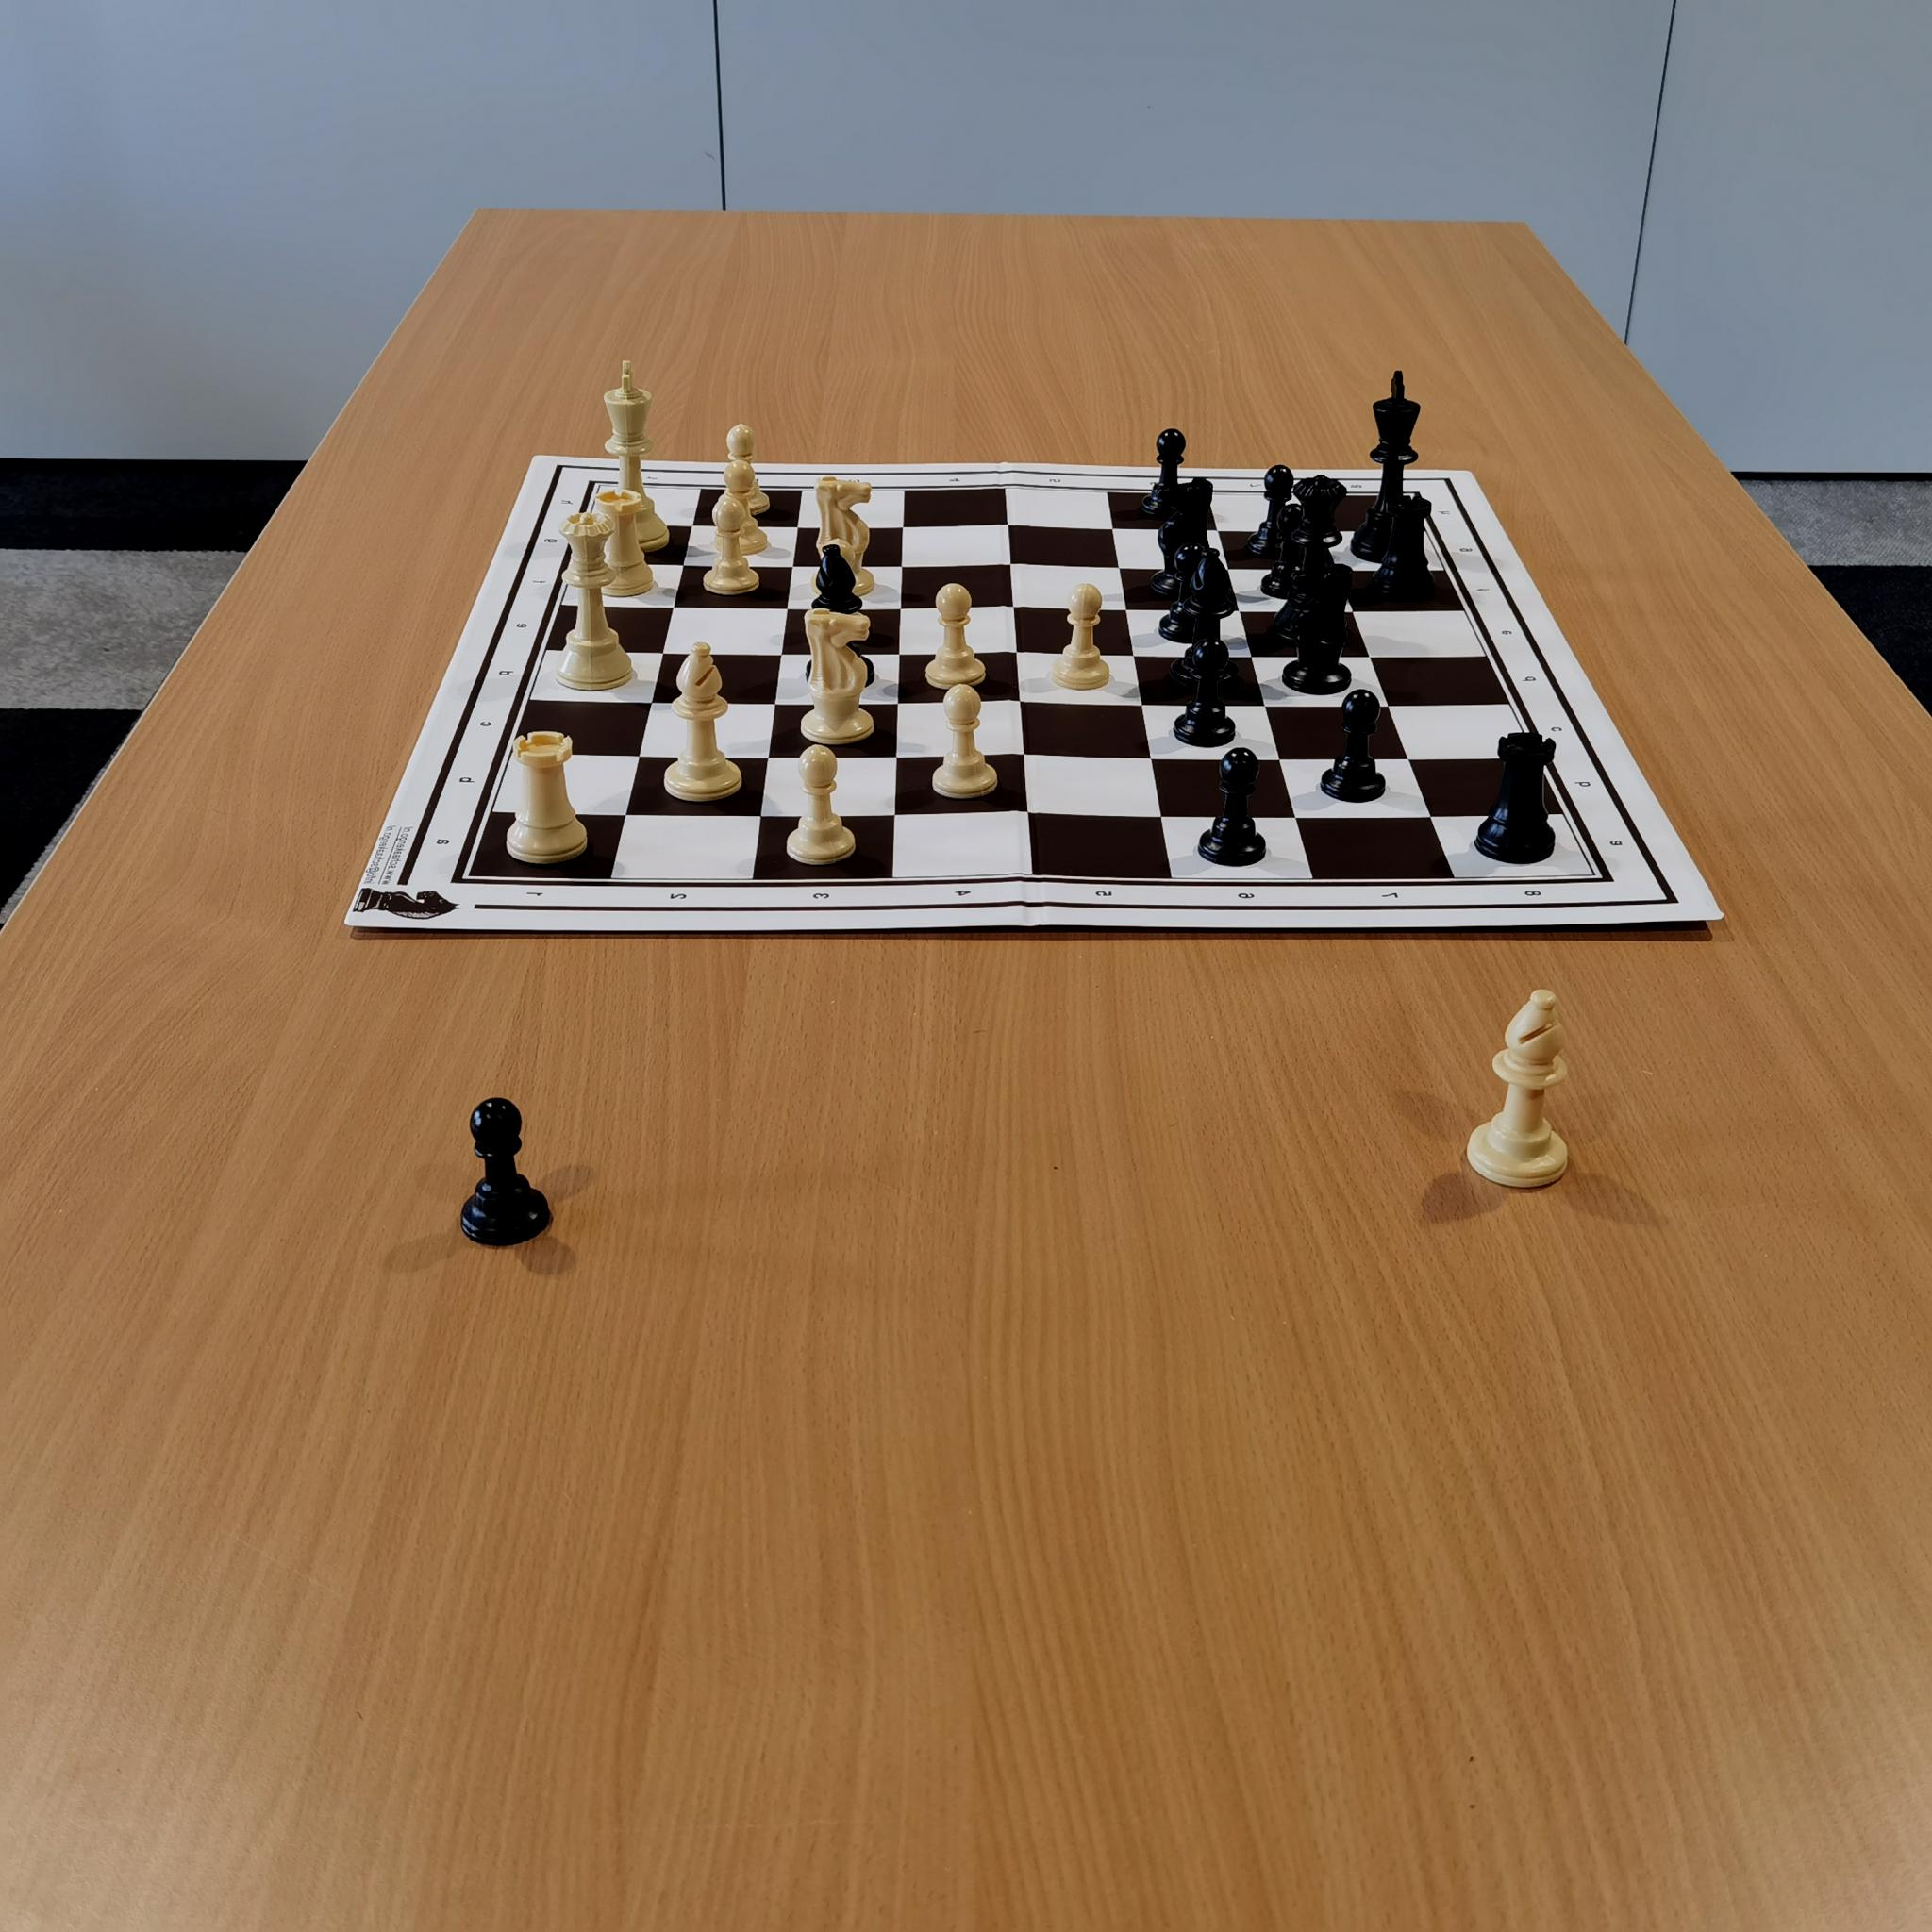corners: (1573, 849, 1610, 897), (448, 856, 492, 895), (575, 471, 619, 506), (1391, 479, 1431, 515)
eight: (1341, 464, 1371, 504), (1516, 874, 1546, 908)
one: (515, 869, 556, 913), (637, 456, 669, 501)
